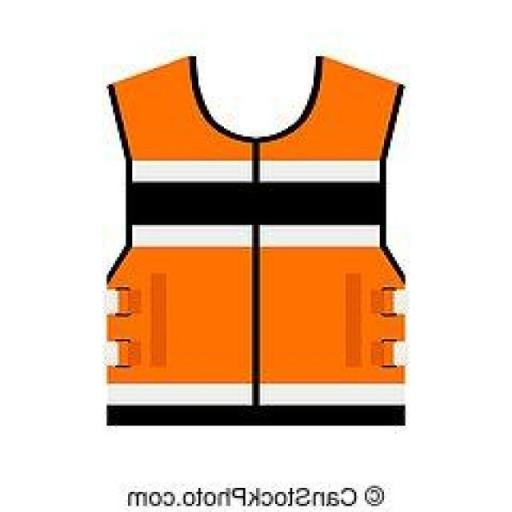vest: (70, 32, 448, 408)
